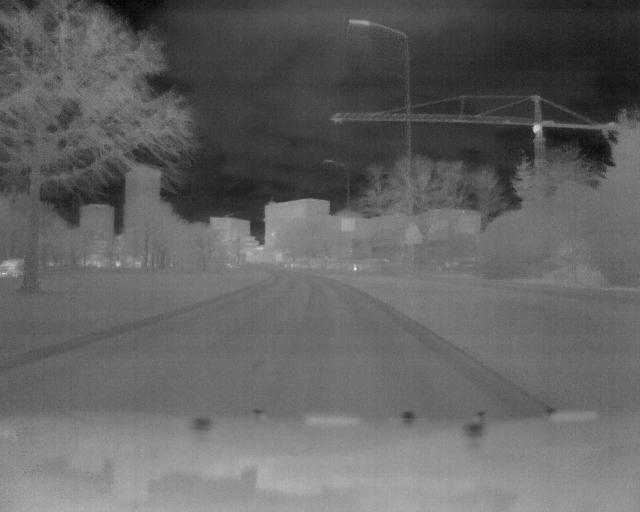car: (1, 257, 24, 282)
